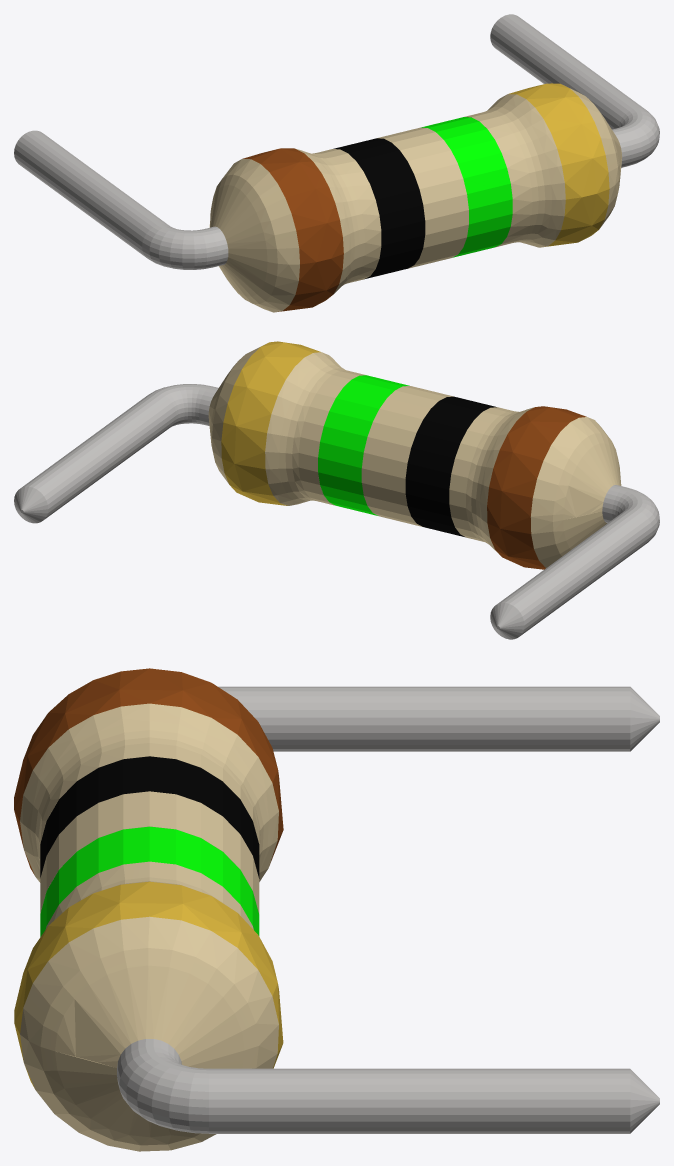
Rendered from Yageo CFR-25 Resistor Axial P7.62mm 1,0 MOhm.obj.
3 renders of one model, top to bottom at view 1: azimuth 30°, elevation 25°; view 2: azimuth 150°, elevation 25°; view 3: azimuth 270°, elevation 25°, orthographic. The views are drawn at different scales.
Visible parts, largest first — view 1: Yageo_CFR-25_Resistor_Axial_P7.62mm_1,0_MOhm; view 2: Yageo_CFR-25_Resistor_Axial_P7.62mm_1,0_MOhm; view 3: Yageo_CFR-25_Resistor_Axial_P7.62mm_1,0_MOhm.
Boxes of the visible parts, box(x1,y1,x2,y2) form: Yageo_CFR-25_Resistor_Axial_P7.62mm_1,0_MOhm: box(14, 14, 659, 312); Yageo_CFR-25_Resistor_Axial_P7.62mm_1,0_MOhm: box(14, 341, 659, 639); Yageo_CFR-25_Resistor_Axial_P7.62mm_1,0_MOhm: box(14, 668, 659, 1151).
Size of the model in its own units: 0.0138 by 0.0038 by 0.00918.
